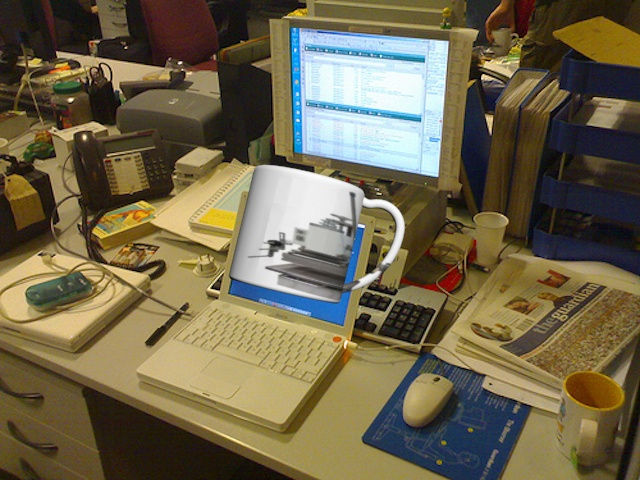mug: (225, 161, 408, 304)
